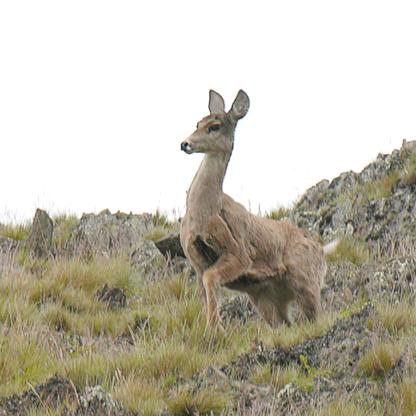Deer: (176, 86, 338, 353)
